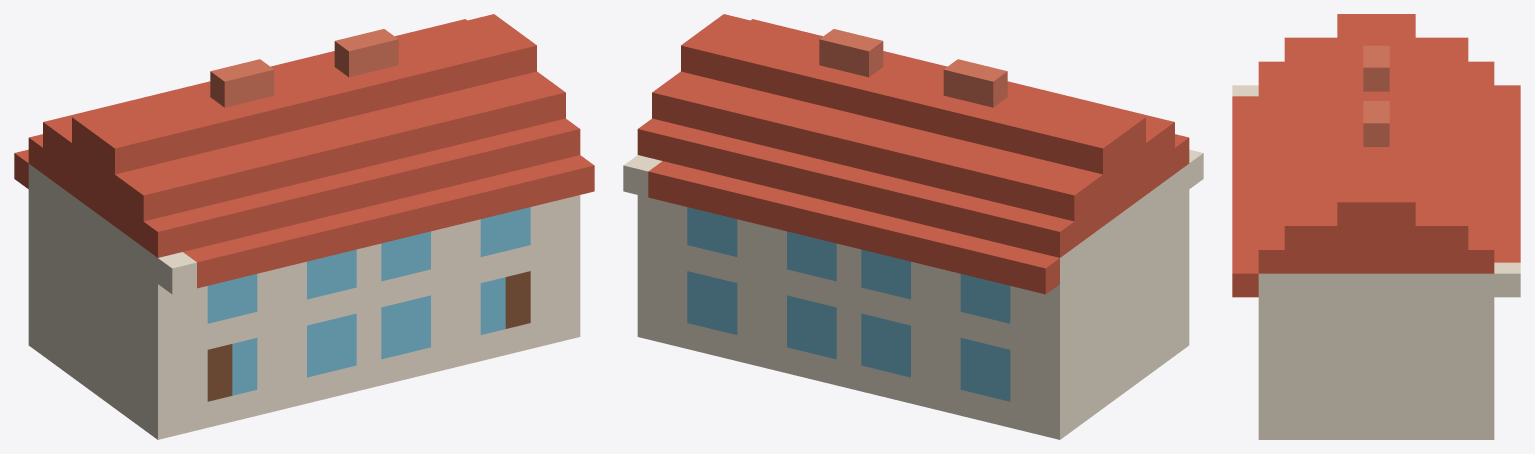
Rendered from semi_detached.glb.
The picture shows the model from 3 angles, left to right: view 1: azimuth 30°, elevation 25°; view 2: azimuth 150°, elevation 25°; view 3: azimuth 270°, elevation 25°; orthographic projection. The views are drawn at different scales.
Visible parts, largest first — view 1: semi_detached_roof_red, semi_detached_wall_cream, semi_detached_window, semi_detached_brick, semi_detached_door; view 2: semi_detached_roof_red, semi_detached_wall_cream, semi_detached_window, semi_detached_brick; view 3: semi_detached_roof_red, semi_detached_wall_cream, semi_detached_brick.
Part boxes in pixels (left/top/right/bottom): semi_detached_roof_red: left=14, top=14, right=594, bottom=288; semi_detached_wall_cream: left=28, top=164, right=580, bottom=439; semi_detached_window: left=207, top=207, right=530, bottom=395; semi_detached_brick: left=210, top=29, right=398, bottom=107; semi_detached_door: left=207, top=271, right=530, bottom=401; semi_detached_roof_red: left=637, top=14, right=1189, bottom=294; semi_detached_wall_cream: left=623, top=149, right=1203, bottom=439; semi_detached_window: left=687, top=207, right=1010, bottom=401; semi_detached_brick: left=819, top=29, right=1007, bottom=107; semi_detached_roof_red: left=1232, top=14, right=1520, bottom=297; semi_detached_wall_cream: left=1232, top=85, right=1520, bottom=439; semi_detached_brick: left=1363, top=45, right=1389, bottom=146.
Bounding box in the file's own units: 15.86 × 10.26 × 10.26.
